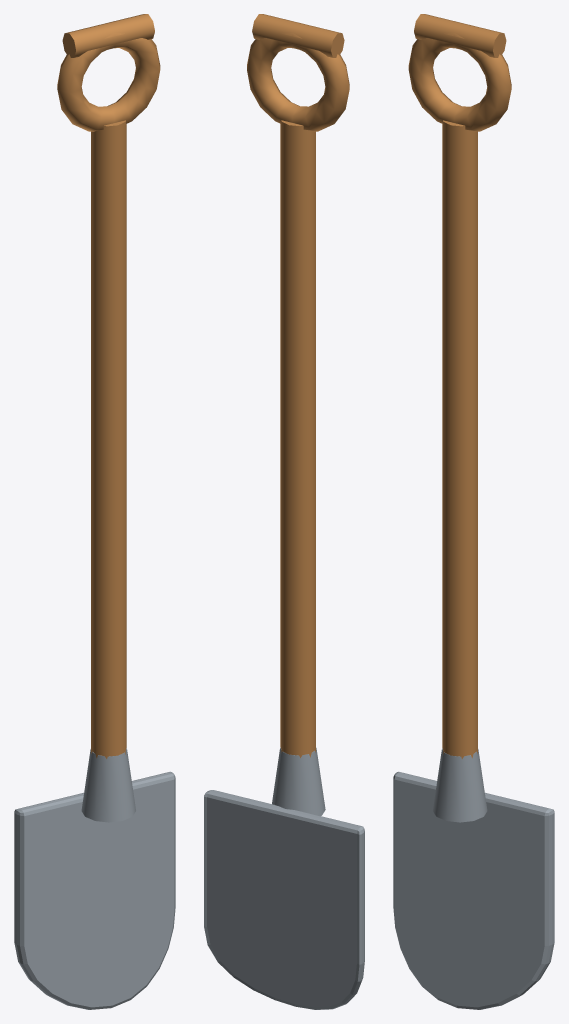
3 views of the same model, side by side, from view 1: azimuth 30°, elevation 25°; view 2: azimuth 150°, elevation 25°; view 3: azimuth 330°, elevation 25° (orthographic).
Visible parts, largest first — view 1: pa; view 2: pa; view 3: pa.
Boxes of the visible parts, bbox=[...] form: pa: bbox=[14, 14, 175, 1009]; pa: bbox=[204, 14, 364, 1009]; pa: bbox=[393, 14, 554, 1009].
Bounding box in the file's own units: 0.16 × 0.952 × 0.0531.
